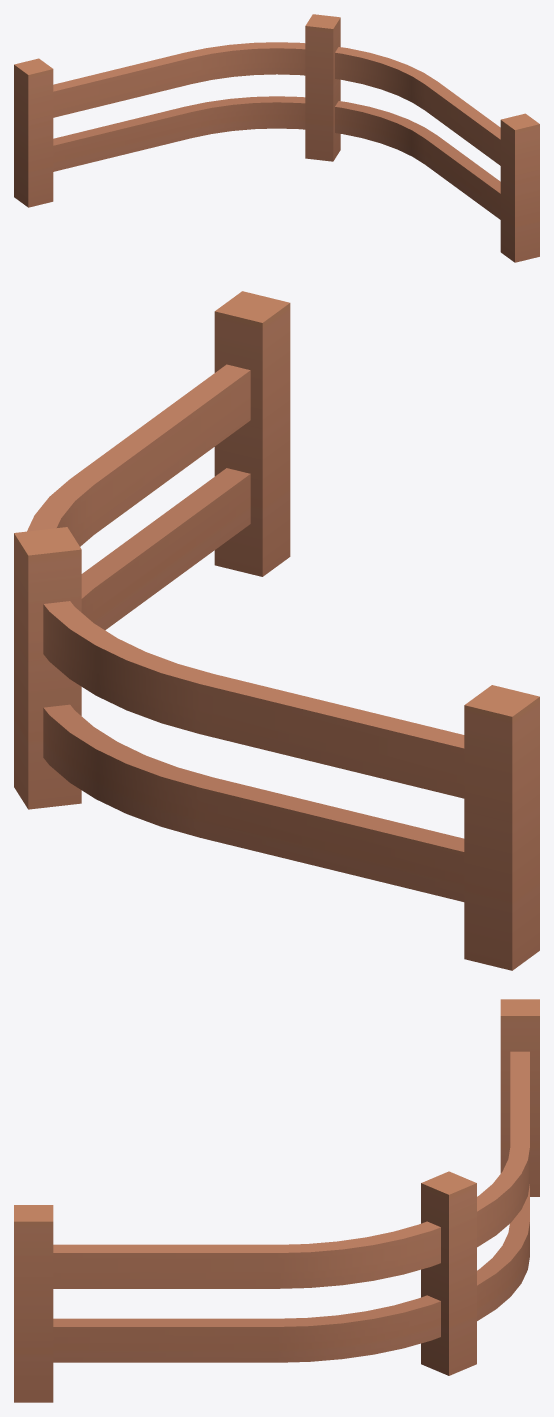
Rendered from fence-curved.glb.
3 renders of one model, top to bottom at view 1: azimuth 30°, elevation 25°; view 2: azimuth 150°, elevation 25°; view 3: azimuth 270°, elevation 25°, orthographic. The views are drawn at different scales.
Visible parts, largest first — view 1: fence-curved; view 2: fence-curved; view 3: fence-curved.
Part boxes in pixels (<box>): fence-curved: <box>14,14,539,262</box>; fence-curved: <box>14,291,539,970</box>; fence-curved: <box>14,999,539,1402</box>.
Bounding box in the file's own units: 1 × 0.38 × 1.
1 material, 1 textured.
